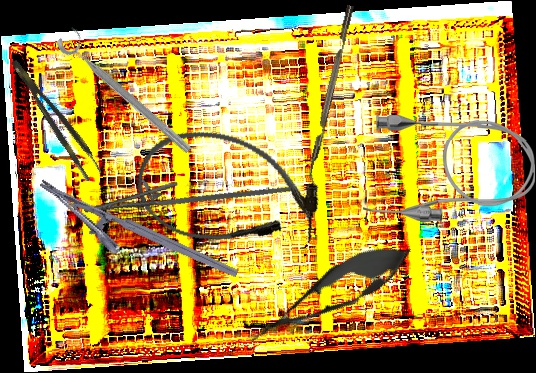Cannula: (125, 116, 331, 267), (363, 114, 536, 224)
Chopper: (303, 4, 363, 187)
Fixation Ring: (53, 24, 202, 158)
Micro Scissor: (236, 227, 422, 361)
Needle Holder: (26, 178, 240, 305), (80, 147, 292, 238)
Tissue Forceps: (9, 52, 104, 183)
